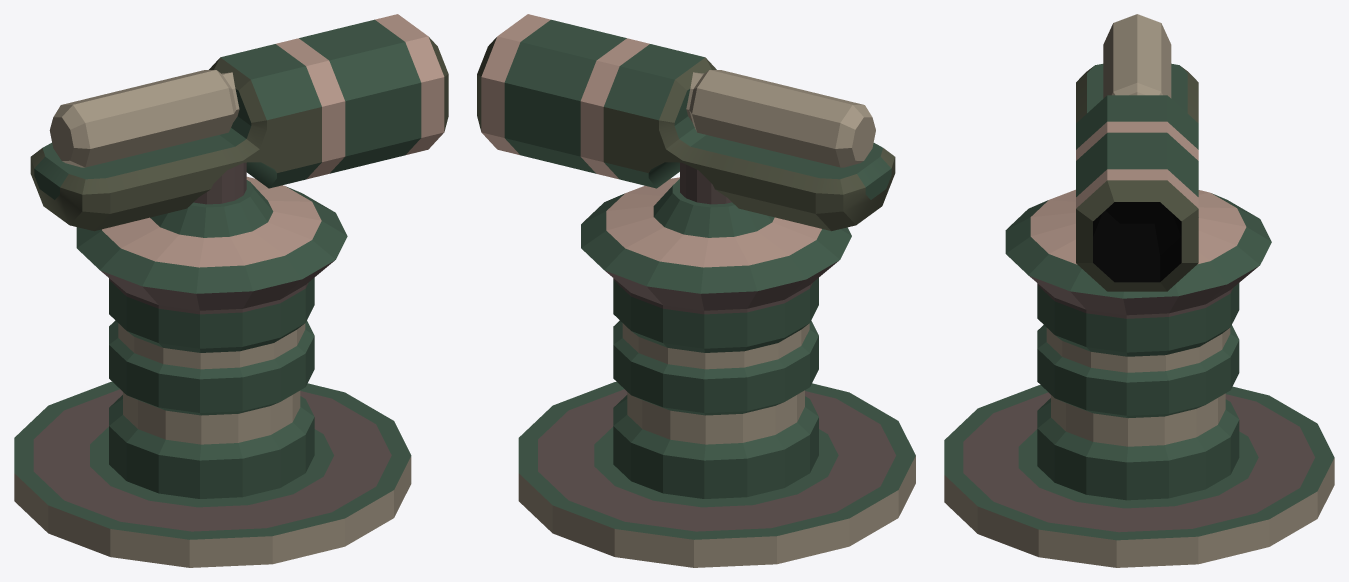
File: NetGunToUse.fbx
3 views of the same model, side by side, from view 1: azimuth 30°, elevation 25°; view 2: azimuth 150°, elevation 25°; view 3: azimuth 270°, elevation 25° (orthographic).
Parts seen in each view (by area): view 1: NetGunToUse; view 2: NetGunToUse; view 3: NetGunToUse.
Boxes of the visible parts, left/top/right/bottom form: NetGunToUse: left=14, top=14, right=448, bottom=567; NetGunToUse: left=477, top=14, right=915, bottom=567; NetGunToUse: left=944, top=14, right=1334, bottom=567.
Bounding box in the file's own units: 1.81 × 1.84 × 1.61.
